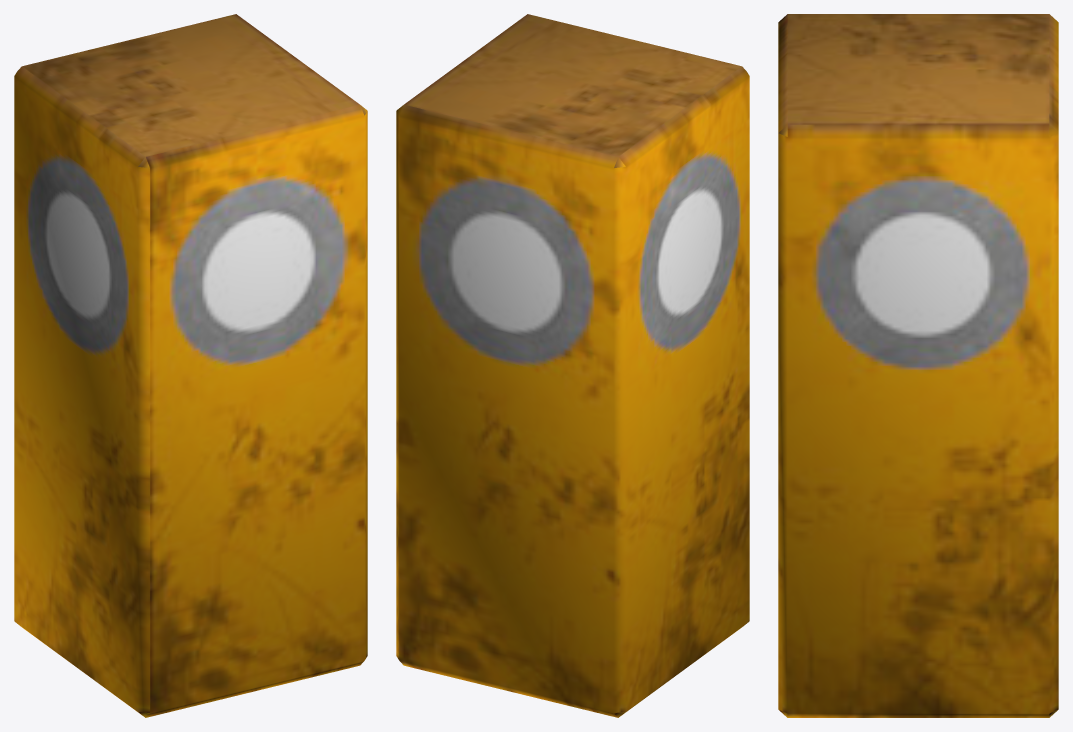
The model's file is pole.glb.
3 renders of one model, left to right at view 1: azimuth 30°, elevation 25°; view 2: azimuth 150°, elevation 25°; view 3: azimuth 270°, elevation 25°, orthographic. The views are drawn at different scales.
Parts seen in each view (by area): view 1: Cube; view 2: Cube; view 3: Cube.
Part boxes in pixels (<box>): Cube: <box>14,14,367,717</box>; Cube: <box>396,14,749,717</box>; Cube: <box>778,14,1058,717</box>.
Bounding box in the file's own units: 0.15 × 0.35 × 0.15.
Materials: 1 (1 with a texture image).
